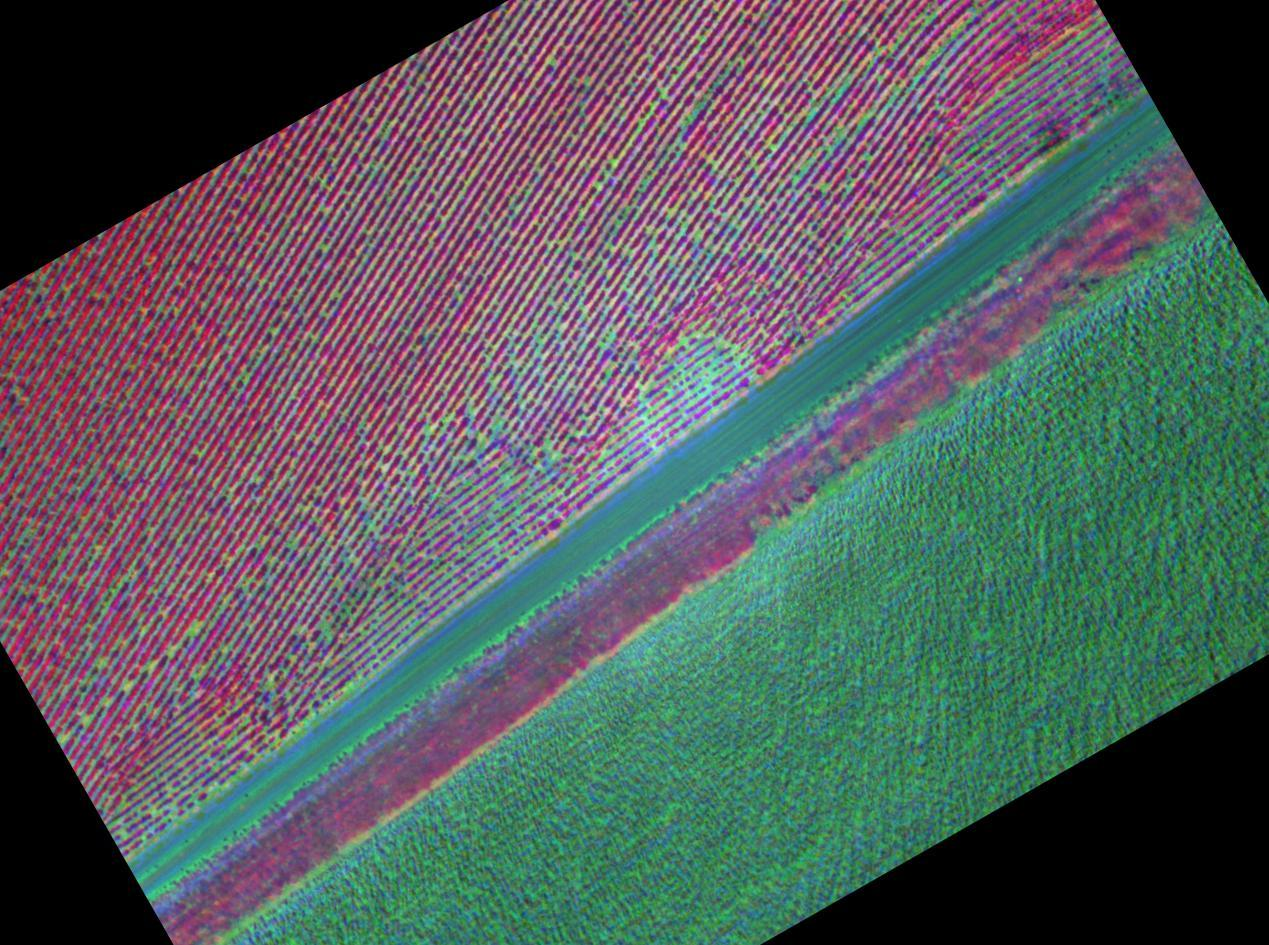dc: (834, 83, 845, 92), (191, 626, 200, 634), (821, 183, 827, 190), (875, 47, 882, 52)
